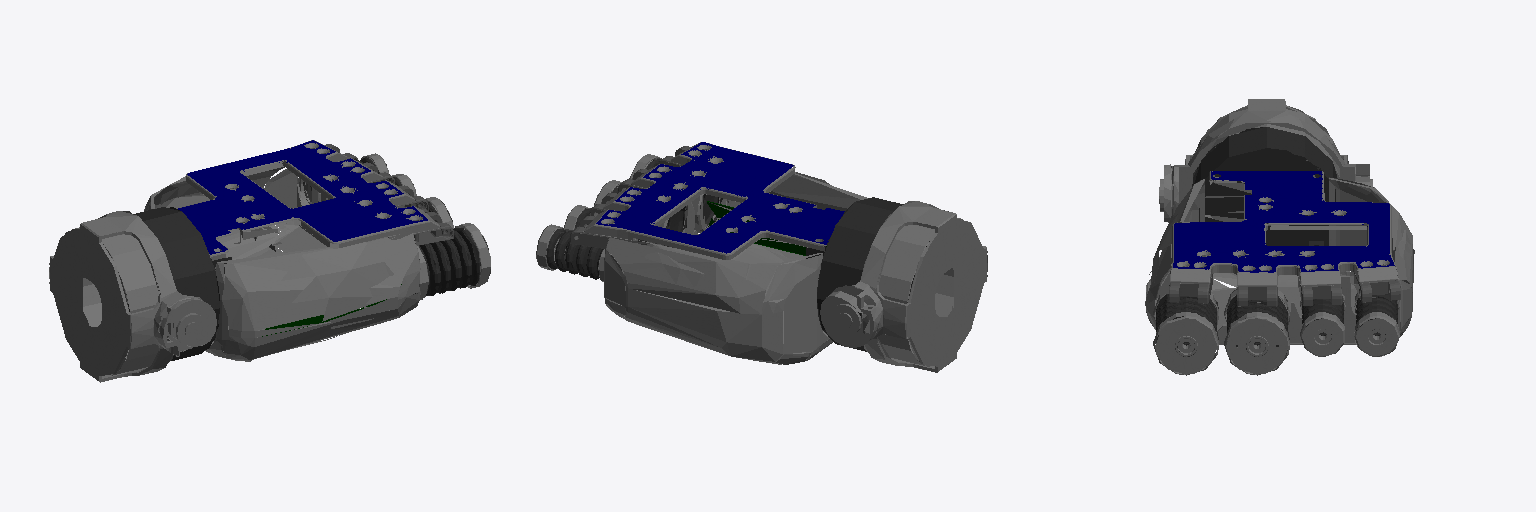
The picture shows the model from 3 angles: view 1: azimuth 30°, elevation 25°; view 2: azimuth 150°, elevation 25°; view 3: azimuth 270°, elevation 25°; orthographic projection.
Bounding box in the file's own units: 0.1182 × 0.049 × 0.0797.
Materials: 1 (1 with a texture image).